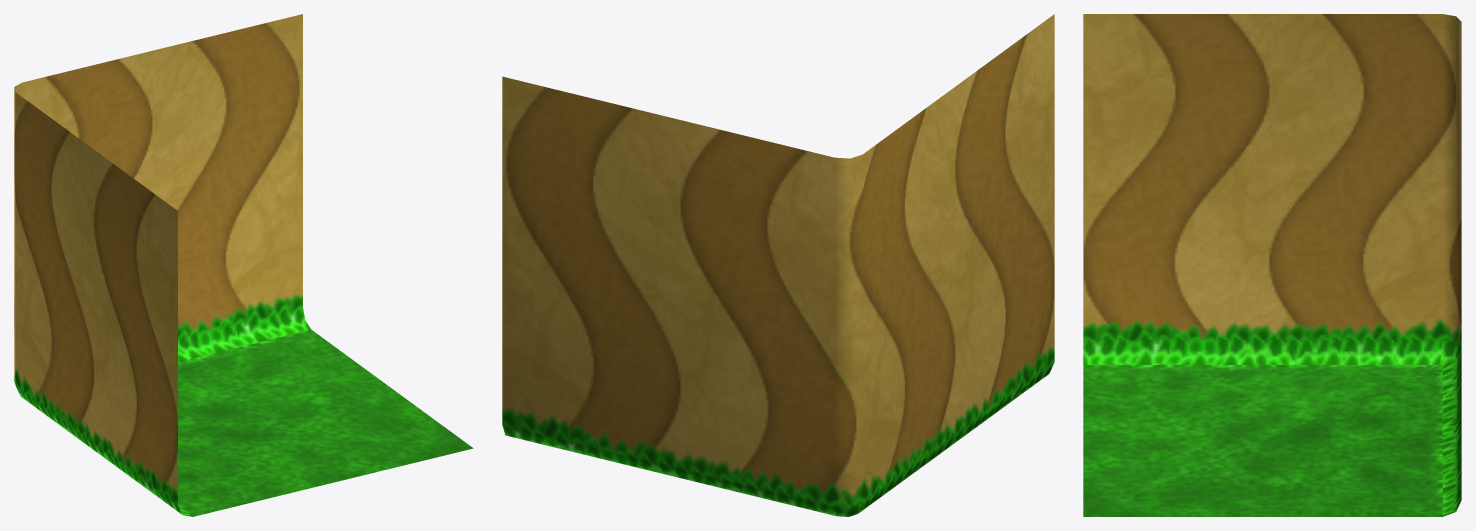
Rendered from Corner_Bottom_Inwards 1.fbx.
The picture shows the model from 3 angles, left to right: view 1: azimuth 30°, elevation 25°; view 2: azimuth 150°, elevation 25°; view 3: azimuth 270°, elevation 25°; orthographic projection. The views are drawn at different scales.
Visible parts, largest first — view 1: Txt_Corner_Bottom_Inwards; view 2: Txt_Corner_Bottom_Inwards; view 3: Txt_Corner_Bottom_Inwards.
Boxes of the visible parts, x1,y1,x2,y2 form: Txt_Corner_Bottom_Inwards: (14,14,473,516); Txt_Corner_Bottom_Inwards: (502,14,1054,516); Txt_Corner_Bottom_Inwards: (1083,14,1461,516).
Bounding box in the file's own units: 200 × 200 × 200.
